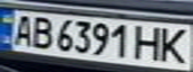1: (109, 21, 133, 59)
3: (69, 19, 93, 55)
6: (51, 16, 75, 53)
9: (90, 20, 112, 57)
A: (6, 11, 36, 47)
B: (27, 14, 57, 50)
H: (133, 23, 166, 62)
K: (154, 25, 193, 65)
